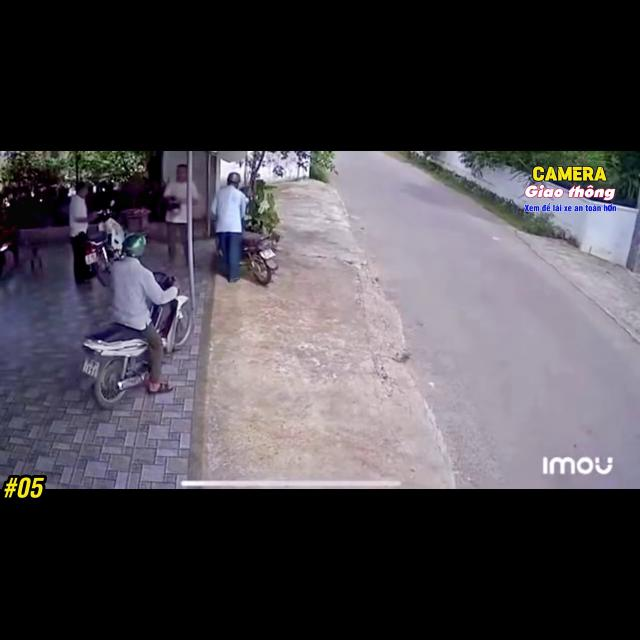motorcycle: (82, 323, 149, 409), (85, 200, 126, 286), (240, 232, 278, 285)
